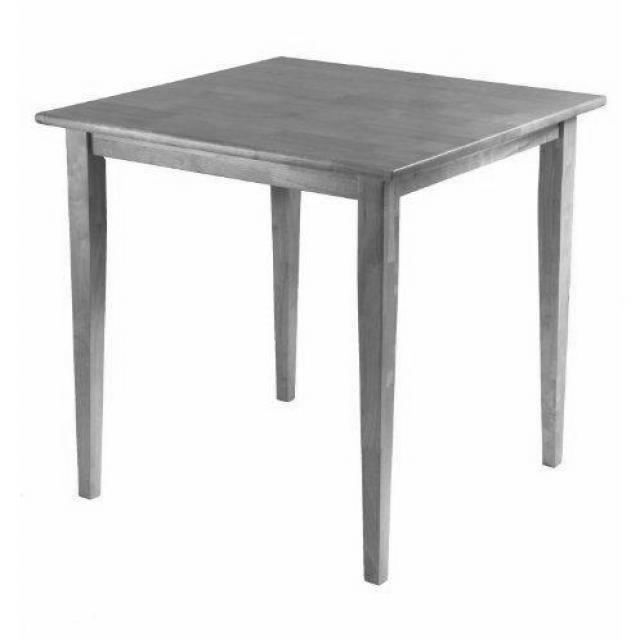table: (37, 54, 608, 582)
